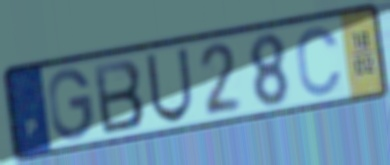2: (197, 41, 245, 119)
8: (245, 31, 291, 110)
B: (91, 56, 147, 137)
C: (294, 24, 344, 99)
G: (45, 66, 96, 144)
U: (143, 45, 195, 126)
